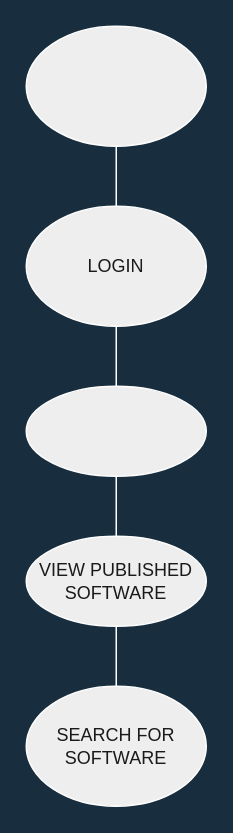
Image size: 233x833. Some labels were removed from this diagram. Each missing label, with the centre of its shape:
"PUBLISH SOFTWARE" belongs at point (115, 430).
"SIGNUP" belongs at point (115, 85).
